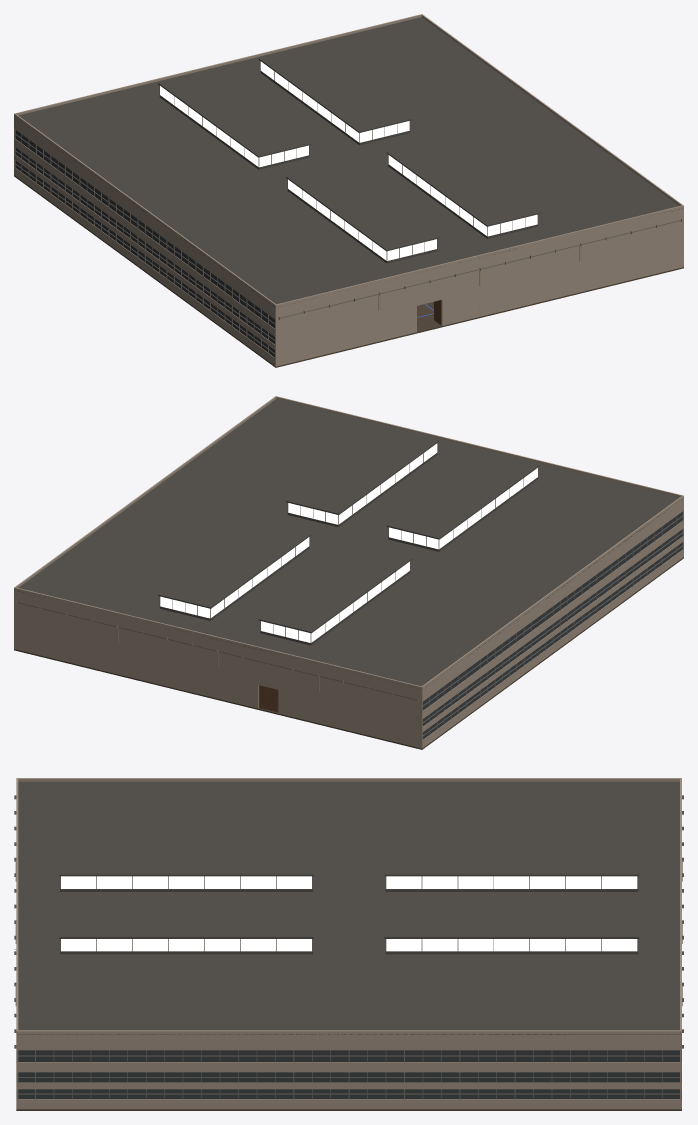
Rendered from hall.glb.
The picture shows the model from 3 angles, top to bottom: view 1: azimuth 30°, elevation 25°; view 2: azimuth 150°, elevation 25°; view 3: azimuth 270°, elevation 25°; orthographic projection. The views are drawn at different scales.
Visible parts, largest first — view 1: hall-deck, hall-block, hall-glass, hall-skylight, hall-steel, hall-floor, hall-frame; view 2: hall-deck, hall-block, hall-glass, hall-skylight, hall-steel, hall-floor, hall-frame; view 3: hall-deck, hall-block, hall-glass, hall-skylight, hall-steel, hall-floor.
Boxes of the visible parts, <box> form: hall-deck: <box>15,17,682,307</box>; hall-block: <box>14,14,683,366</box>; hall-glass: <box>15,130,274,357</box>; hall-skylight: <box>160,61,537,260</box>; hall-steel: <box>14,61,538,358</box>; hall-floor: <box>14,175,683,367</box>; hall-frame: <box>278,219,681,319</box>; hall-deck: <box>15,399,682,689</box>; hall-block: <box>14,396,683,748</box>; hall-glass: <box>423,512,682,739</box>; hall-skylight: <box>160,443,537,642</box>; hall-steel: <box>159,443,683,740</box>; hall-floor: <box>14,557,683,749</box>; hall-frame: <box>16,601,419,701</box>; hall-deck: <box>17,781,680,1034</box>; hall-block: <box>16,778,681,1109</box>; hall-glass: <box>18,1050,679,1098</box>; hall-skylight: <box>61,876,637,951</box>; hall-steel: <box>16,876,681,1099</box>; hall-floor: <box>16,1109,681,1110</box>.
Size of the model in its own units: 97.44 by 17 by 109.
